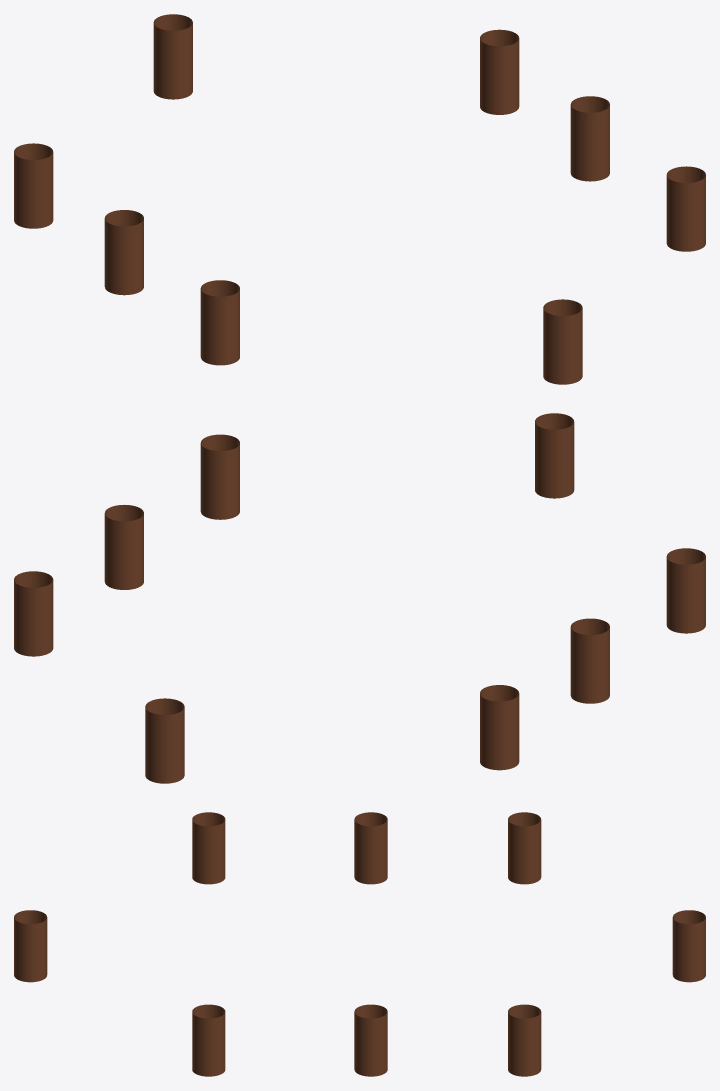
Rendered from BaseSilla.fbx.
3 views of the same model, one above another, from view 1: azimuth 30°, elevation 25°; view 2: azimuth 150°, elevation 25°; view 3: azimuth 270°, elevation 25° (orthographic). The views are drawn at different scales.
Parts seen in each view (by area): view 1: BaseSilla; view 2: BaseSilla; view 3: BaseSilla.
Part boxes in pixels (bbox=[...]): BaseSilla: bbox=[14, 14, 705, 384]; BaseSilla: bbox=[14, 413, 705, 783]; BaseSilla: bbox=[14, 812, 705, 1076].
Bounding box in the file's own units: 550 × 72.21 × 780.
